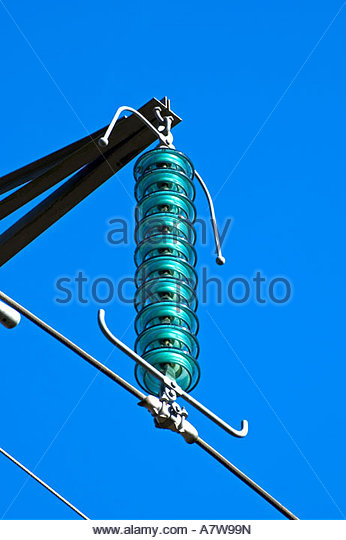isolator: (132, 147, 202, 397)
